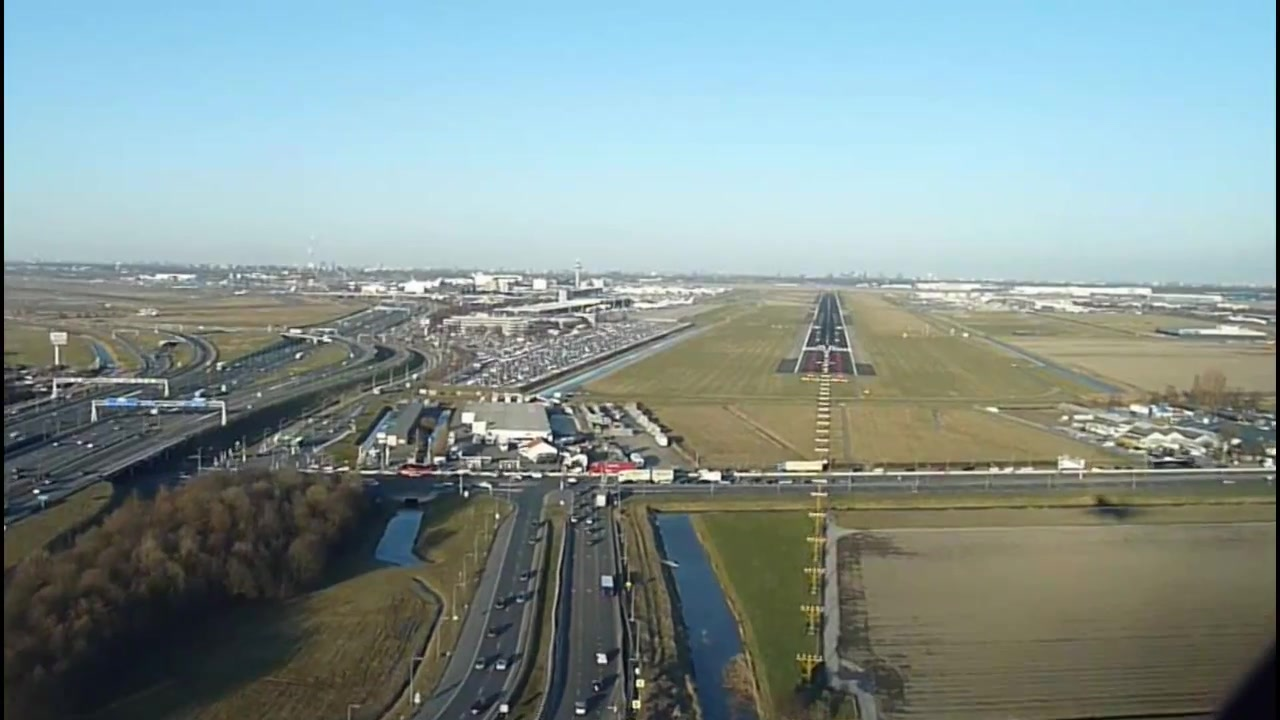runway: (787, 287, 857, 376)
